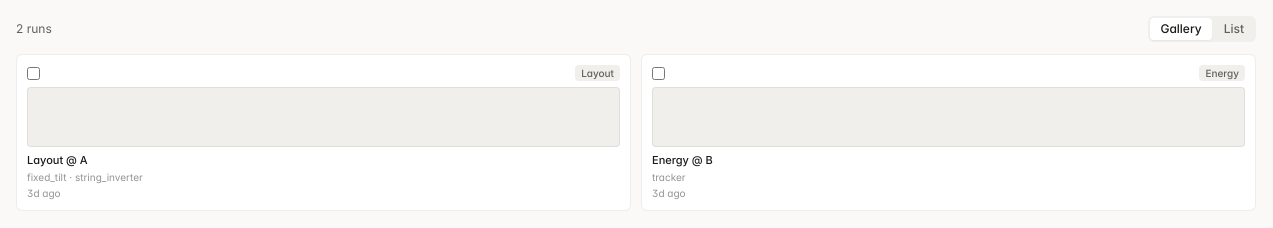
Test: RunsList — delete flow (P9) › shows the Delete button when one row is selected
The width and height of the screenshot is (1273, 228).
Step 1. Click the checkbox named "Select run Layout @ A" → coordinates (34, 74), box x1=27 y1=67 x2=40 y2=80
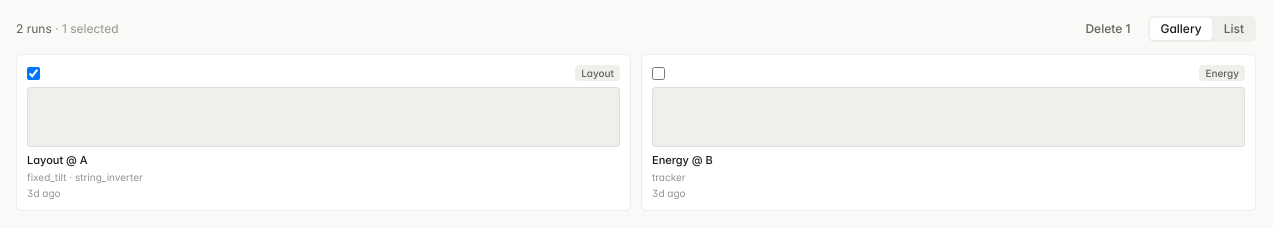
Now the button "Delete 1" is shown, box x1=1075 y1=17 x2=1140 y2=41
